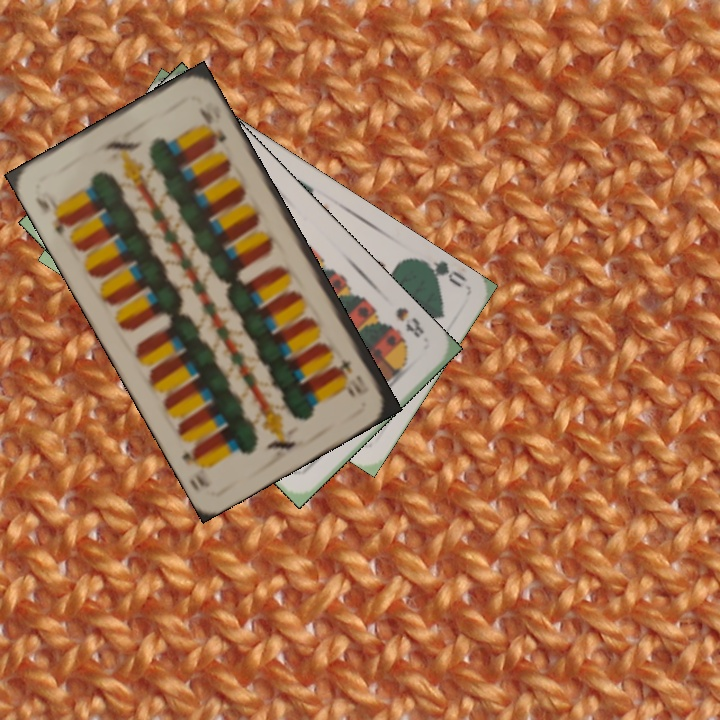E10: (31, 192, 73, 238), (336, 354, 371, 398)
GO: (413, 255, 469, 290)
S8: (391, 303, 427, 341)
